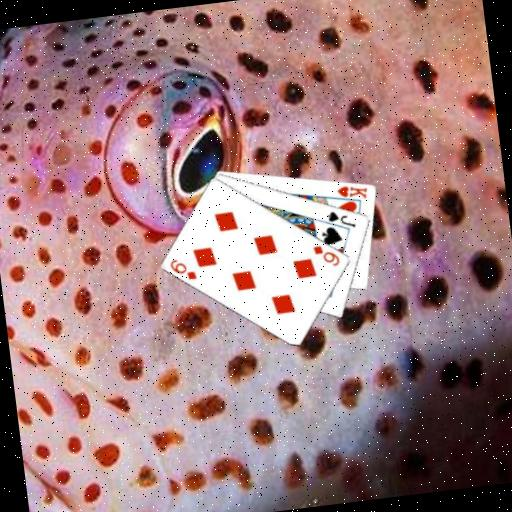6D: (310, 240, 342, 270), (167, 254, 199, 284)
JS: (324, 205, 358, 232)
KH: (334, 180, 370, 203)
